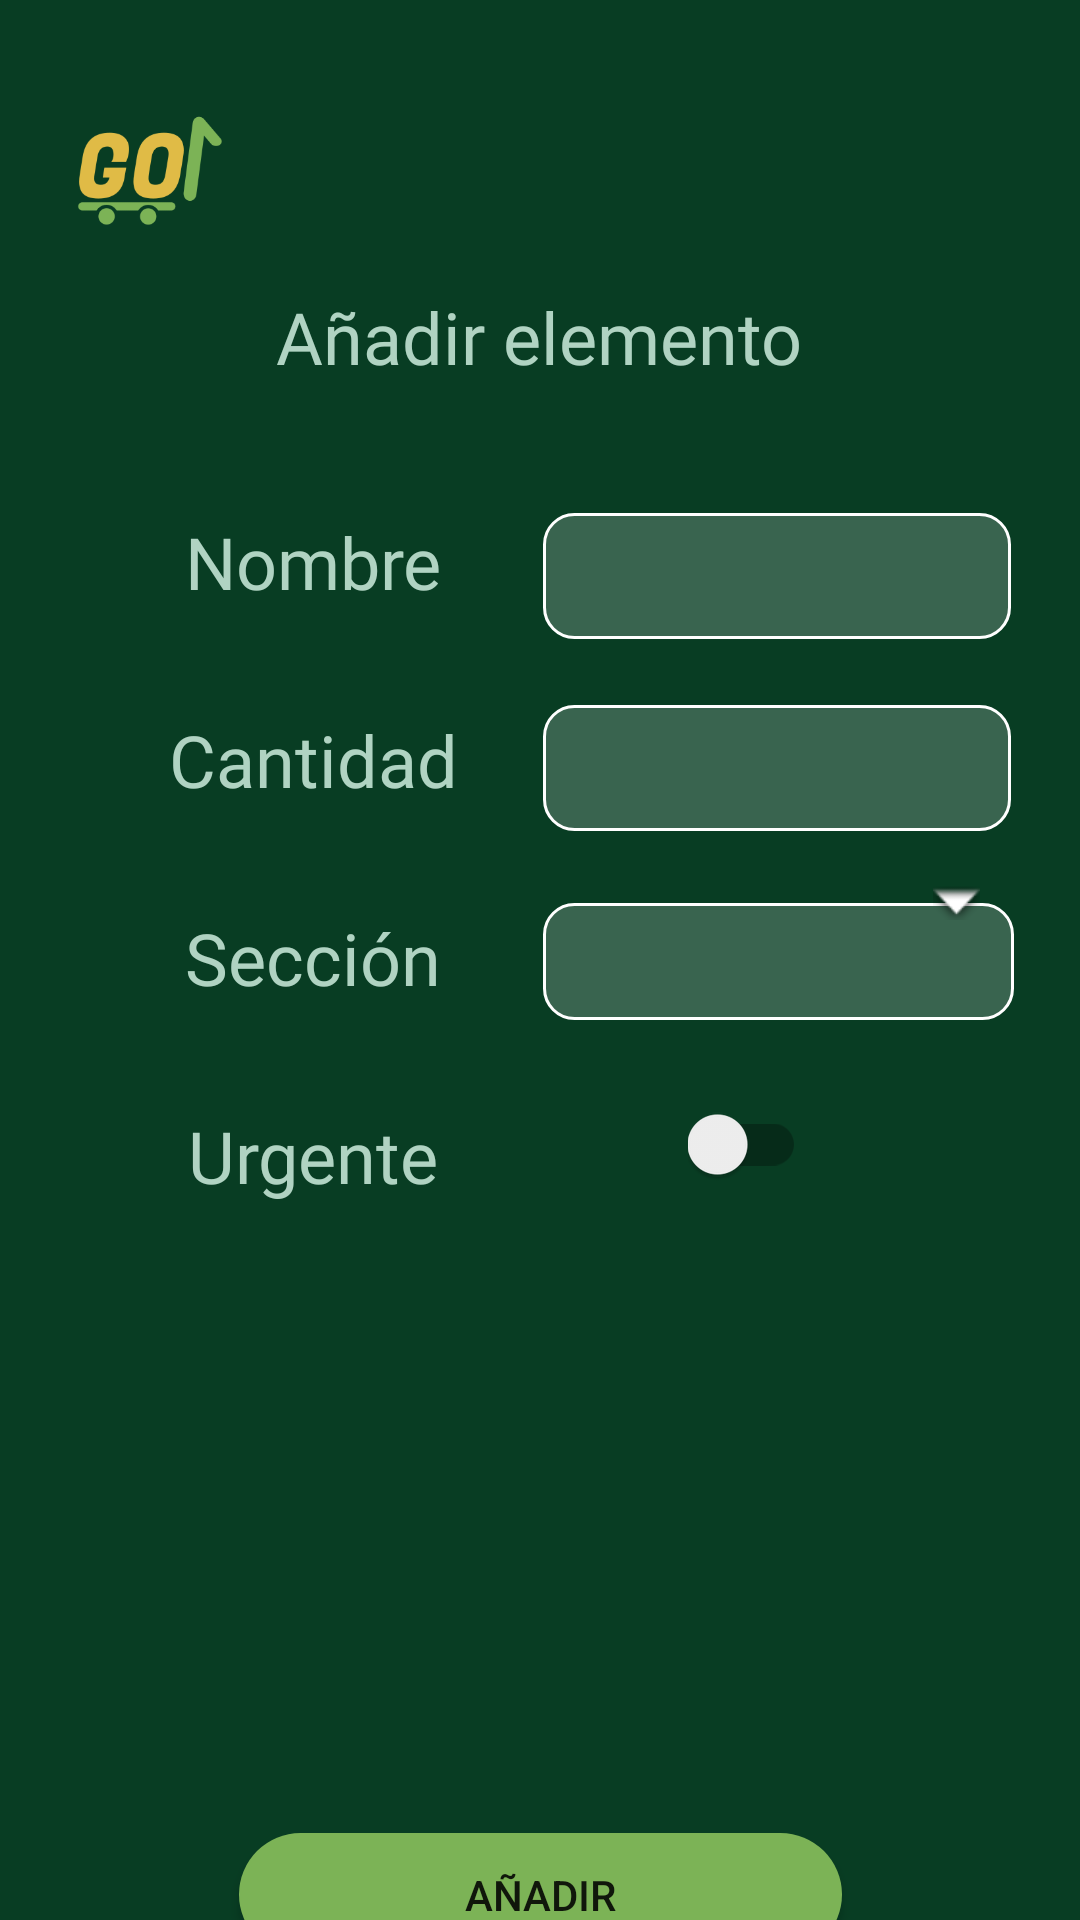

Point at icon controls on the screen. Image size 1080px×1920px, points as point (x, y).
arrow down float: point (956, 902)
